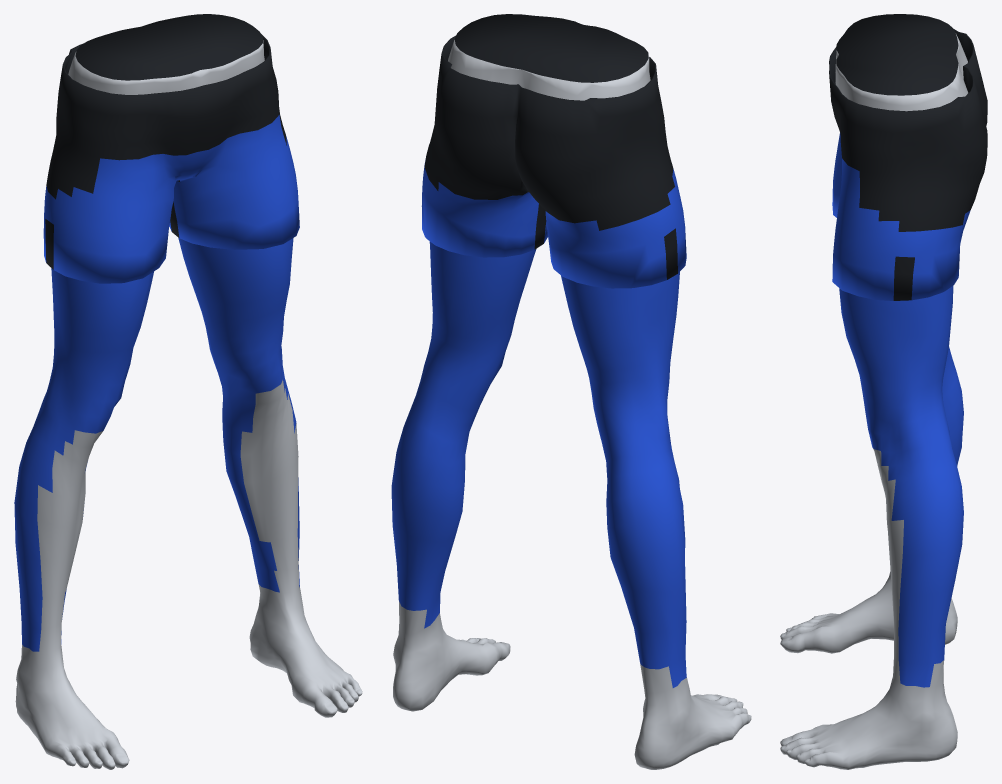
File: workout-legs.glb
The picture shows the model from 3 angles, left to right: view 1: azimuth 30°, elevation 25°; view 2: azimuth 150°, elevation 25°; view 3: azimuth 270°, elevation 25°; orthographic projection. The views are drawn at different scales.
Visible parts, largest first — view 1: SM_Athlete_Body; view 2: SM_Athlete_Body; view 3: SM_Athlete_Body.
Boxes of the visible parts, box(x1,y1,x2,y2) form: SM_Athlete_Body: box(14, 14, 362, 769); SM_Athlete_Body: box(391, 14, 751, 769); SM_Athlete_Body: box(780, 14, 987, 769).
Bounding box in the file's own units: 0.9598 × 2 × 0.5808.
